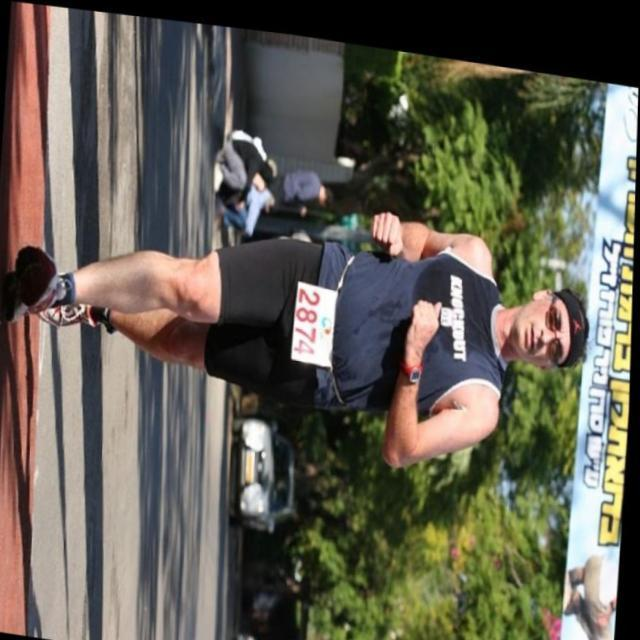dorsal: (288, 267, 342, 360)
